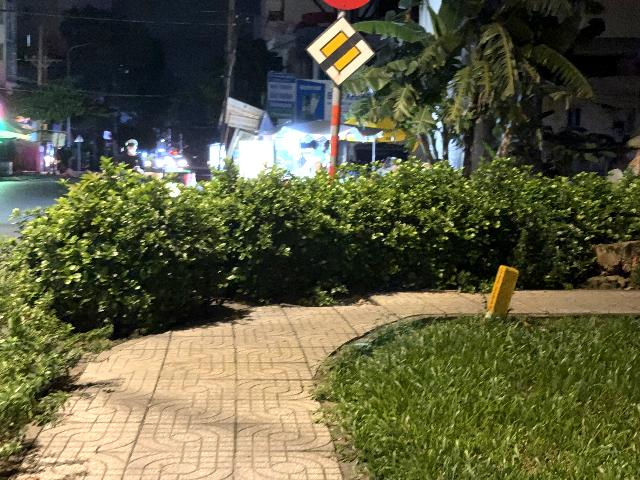het-duong-uu-tien: (306, 16, 378, 88)
